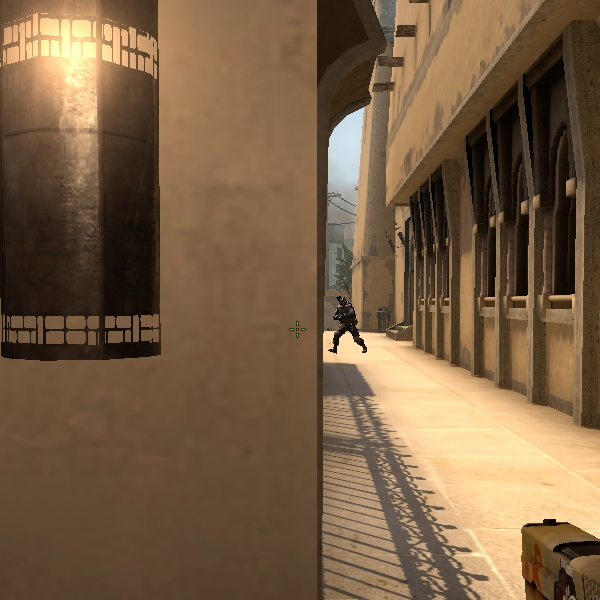t_body: (327, 291, 364, 356)
